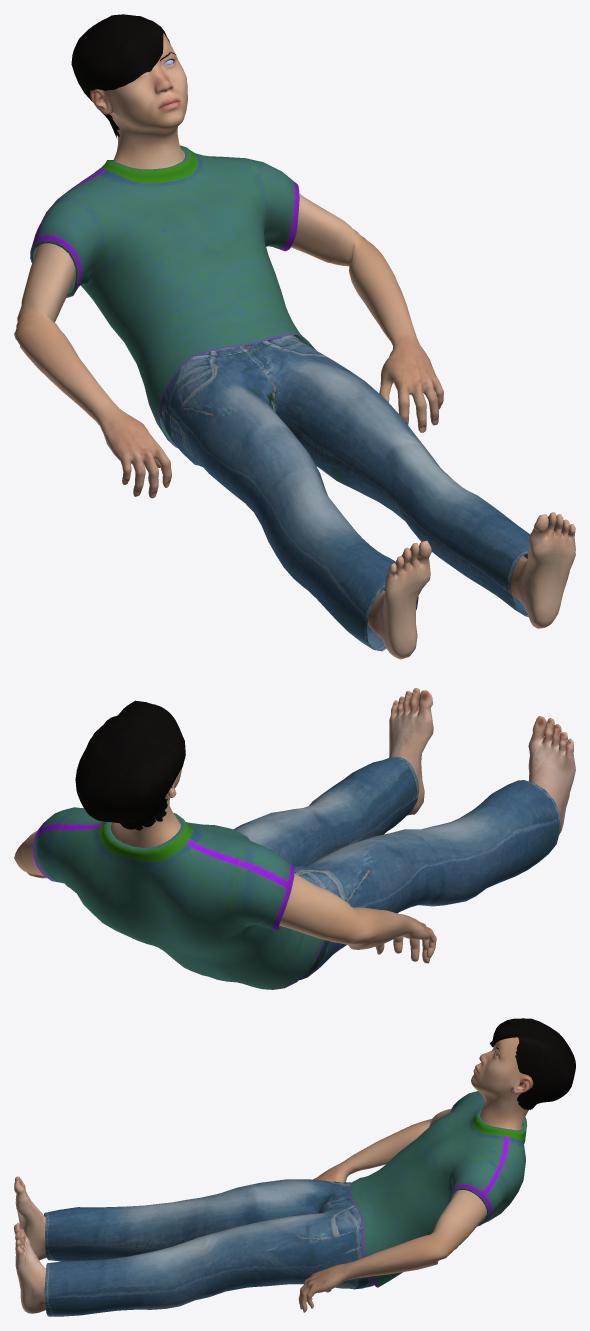
Rendered from male.glb.
The picture shows the model from 3 angles, top to bottom: view 1: azimuth 30°, elevation 25°; view 2: azimuth 150°, elevation 25°; view 3: azimuth 270°, elevation 25°; orthographic projection. The views are drawn at different scales.
Visible parts, largest first — view 1: lie_kenji_body.male_casualsuit04, lie_kenji_body, lie_kenji_body.short03; view 2: lie_kenji_body.male_casualsuit04, lie_kenji_body, lie_kenji_body.short03; view 3: lie_kenji_body.male_casualsuit04, lie_kenji_body, lie_kenji_body.short03.
Part boxes in pixels (x1,y1,x2,y2): lie_kenji_body.male_casualsuit04: (30, 145, 530, 651); lie_kenji_body: (14, 33, 575, 659); lie_kenji_body.short03: (71, 14, 170, 138); lie_kenji_body.male_casualsuit04: (32, 757, 560, 989); lie_kenji_body: (14, 688, 575, 963); lie_kenji_body.short03: (75, 700, 185, 830); lie_kenji_body.male_casualsuit04: (44, 1091, 527, 1316); lie_kenji_body: (14, 1037, 533, 1313); lie_kenji_body.short03: (490, 1018, 575, 1110).
Size of the model in its own units: 0.7059 by 0.6946 by 1.32.
7 materials, 7 textured.
